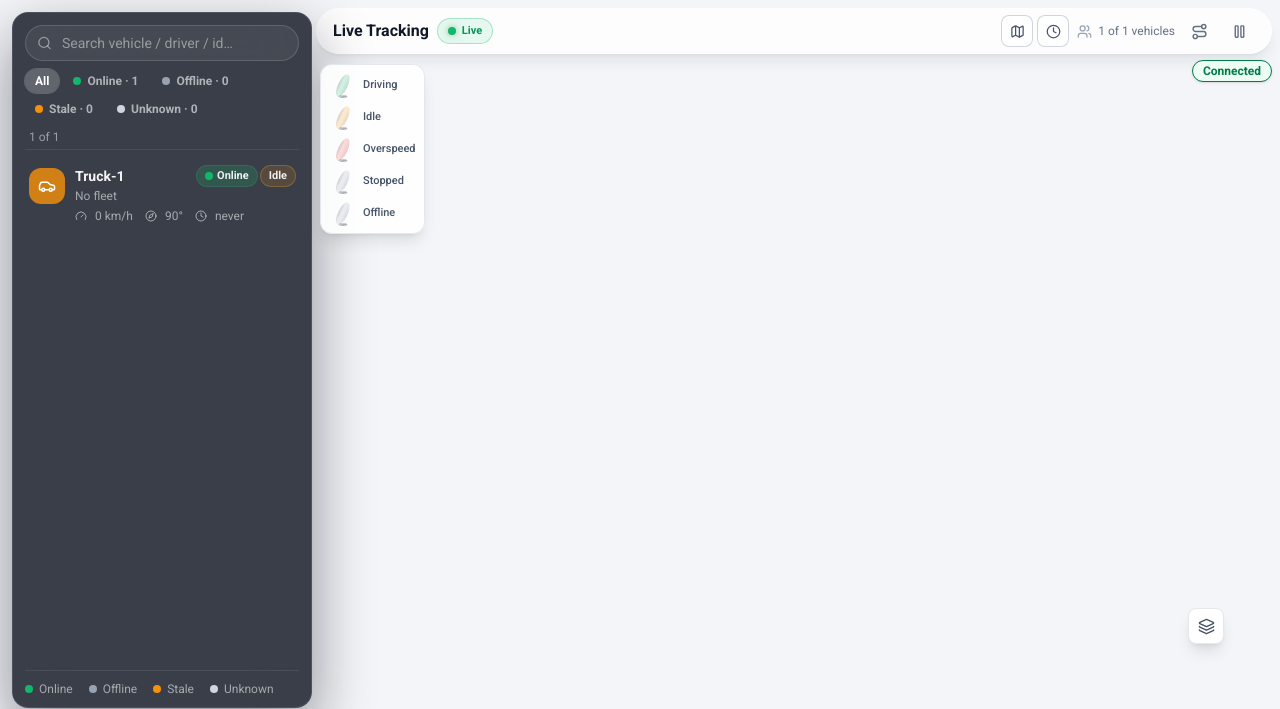
Scenario: MapPage LIVE/HISTORY modes (Sprint F §20) › shows an honest error chip when the track query fails (no fake data)
Click the button named "History mode" at (1053, 31), box [1037, 15, 1069, 47]
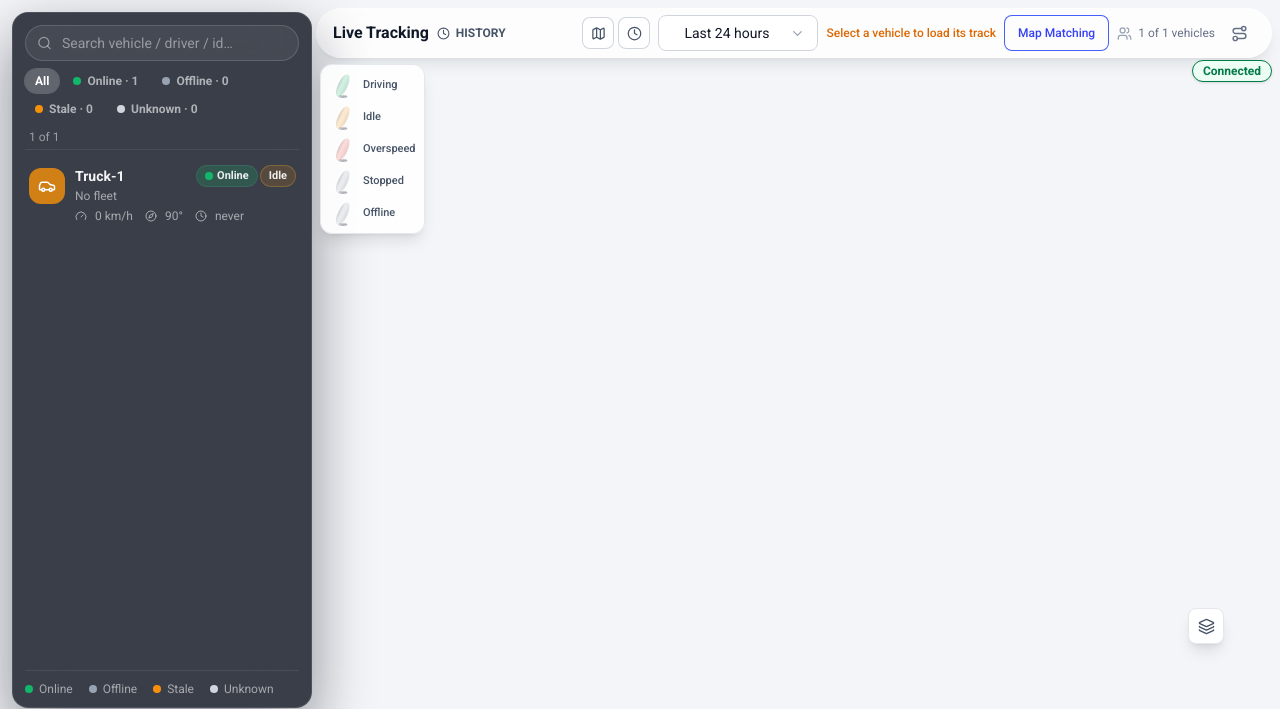
Click the text "Truck-1" at (100, 176), box [75, 166, 124, 186]
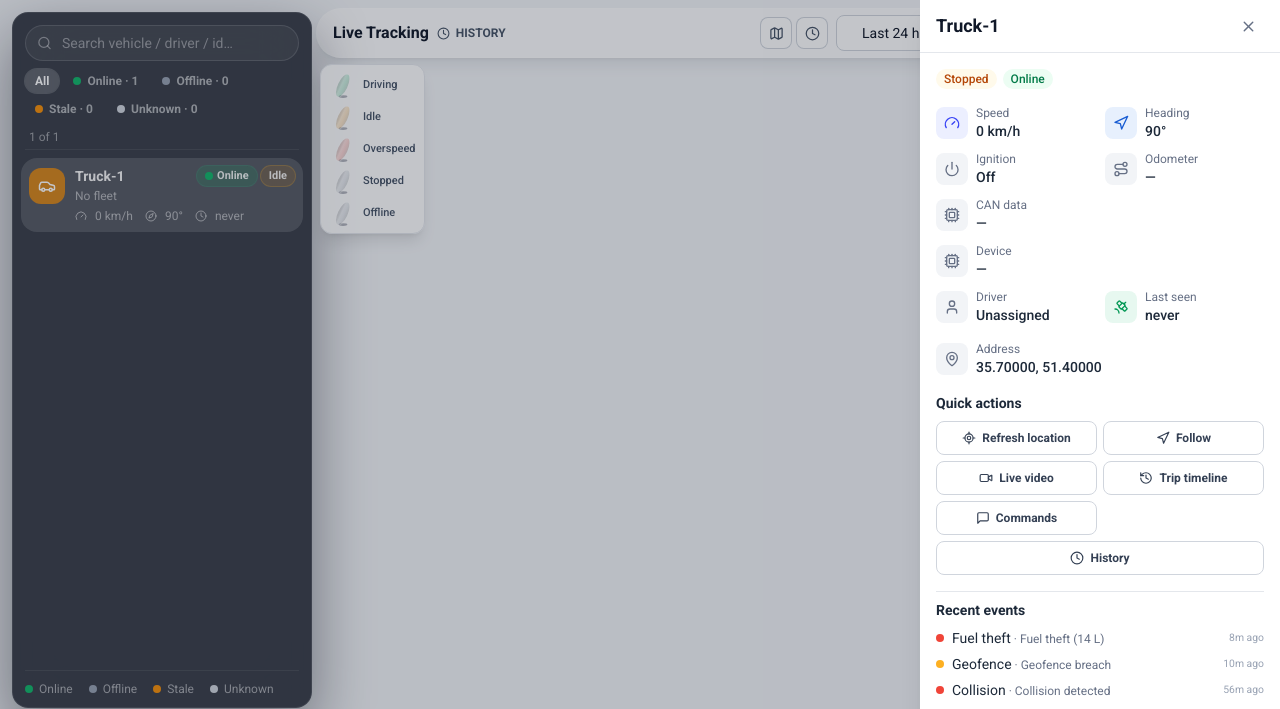
Expected: the button "Track failed — click to retry" is shown, [1104, 92, 1272, 114]
